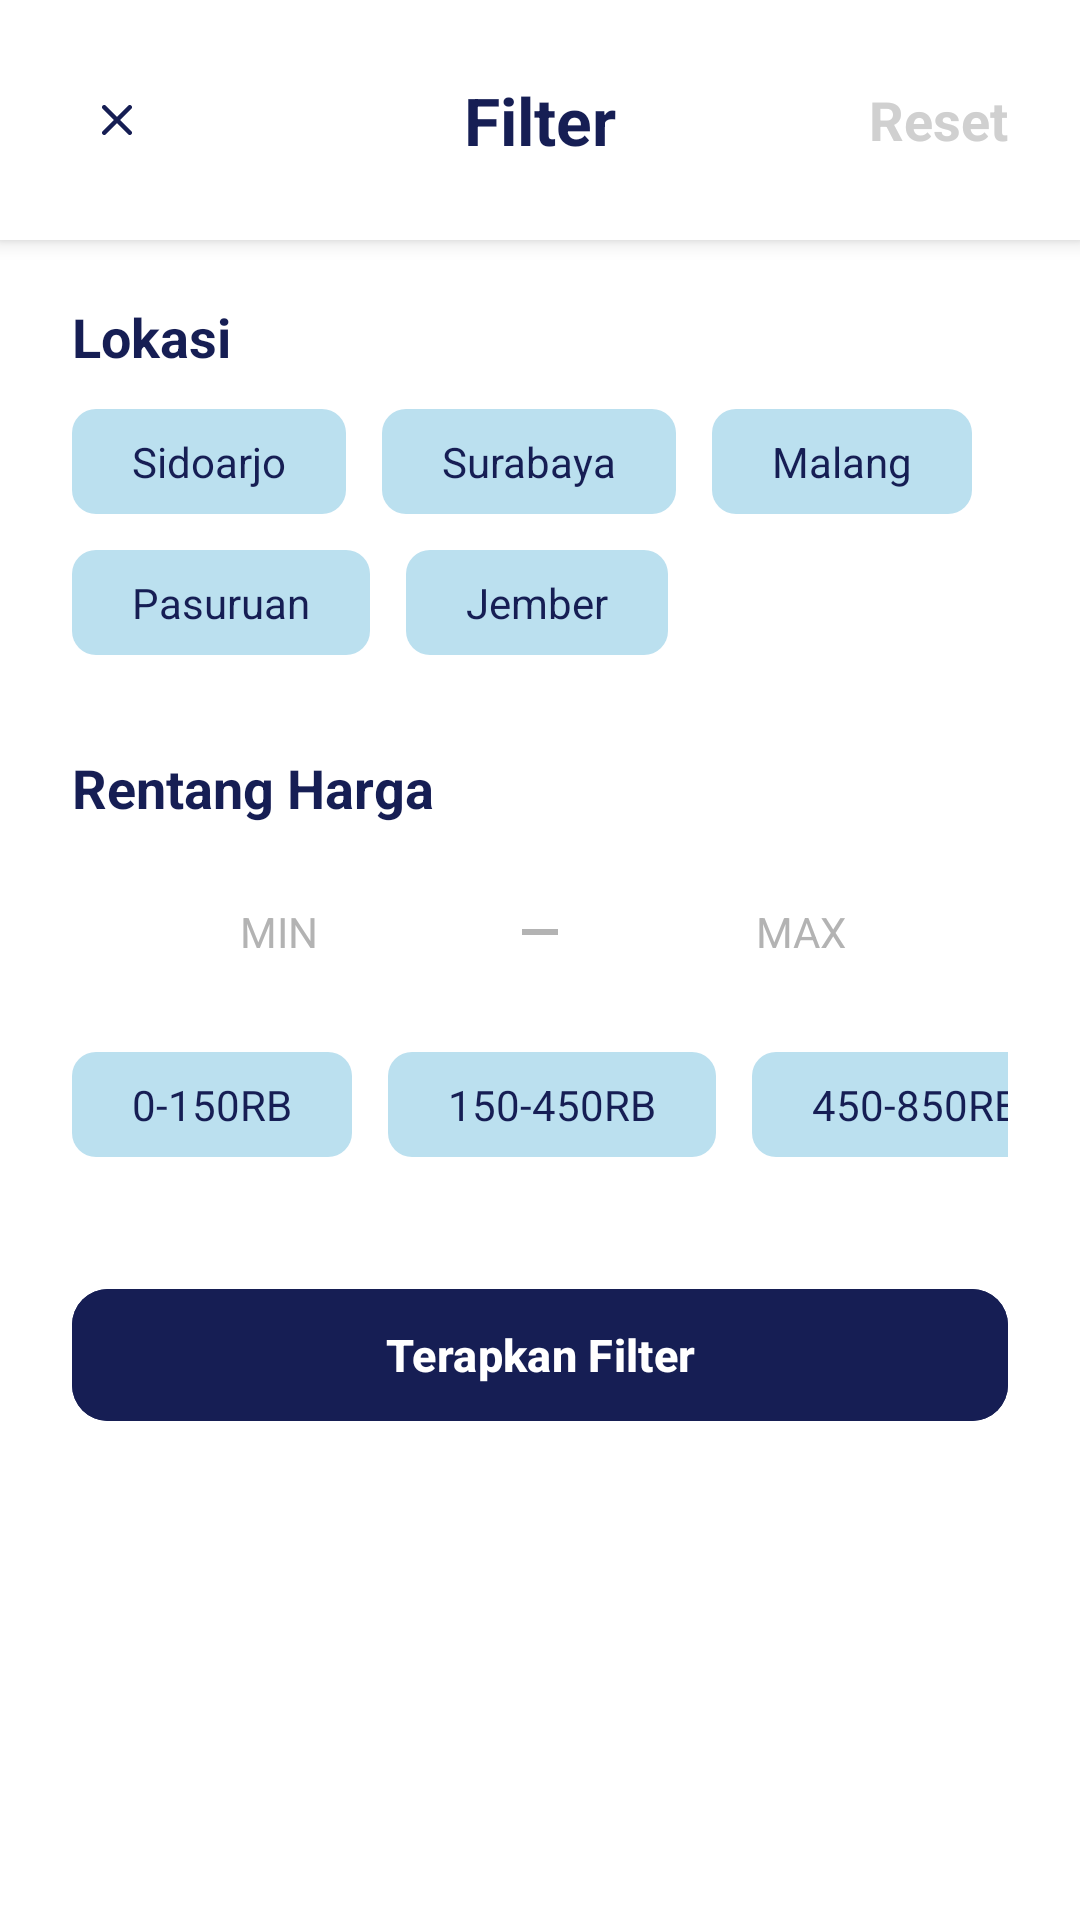

Where to tap for icons on this 1080px x 1920px app screen, as point (x, y):
close: point (117, 120)
